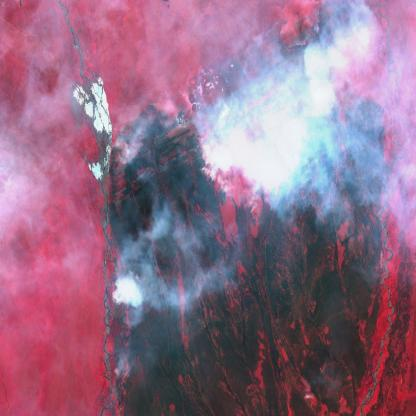fire: (99, 83, 391, 219), (106, 266, 142, 322)
